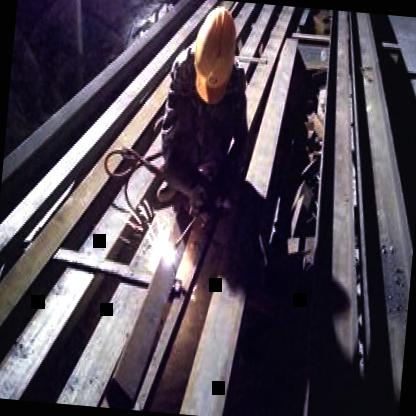helmet: (184, 0, 243, 108)
